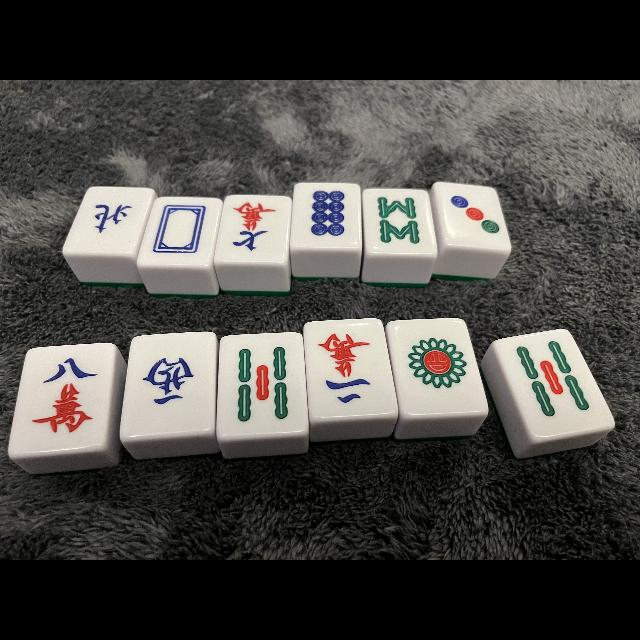b5: (511, 334, 595, 434), (221, 333, 305, 432)
b8: (365, 188, 431, 254)
c2: (307, 321, 391, 415)
c7: (220, 194, 286, 262)
c8: (18, 347, 106, 447)
d1: (395, 320, 479, 414)
d3: (439, 184, 507, 246)
d8: (294, 184, 360, 248)
dw: (148, 198, 214, 262)
wn: (77, 188, 143, 252)
ww: (127, 333, 213, 432)
